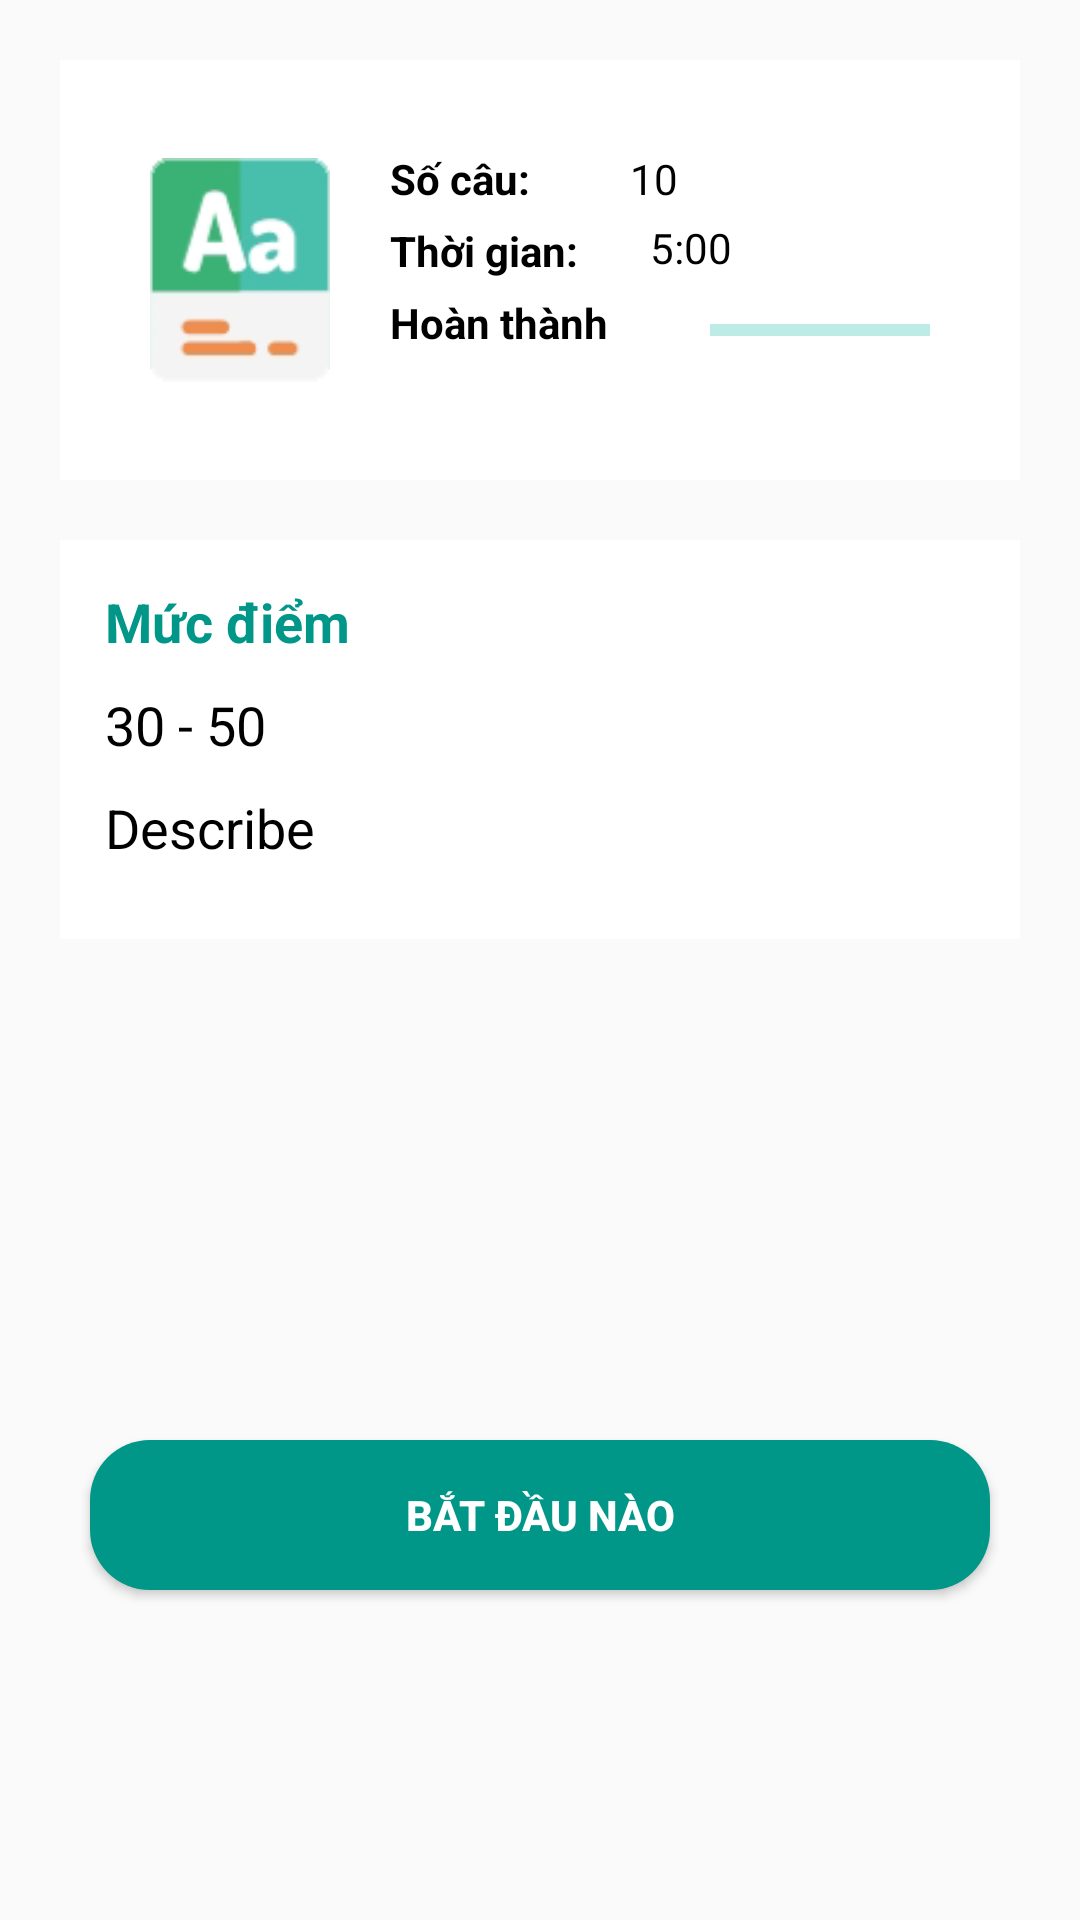

Where icons sit on this 1080px×1920px app screen, as (x1, y1, x2, y2):
reading: (150, 158, 330, 358)
